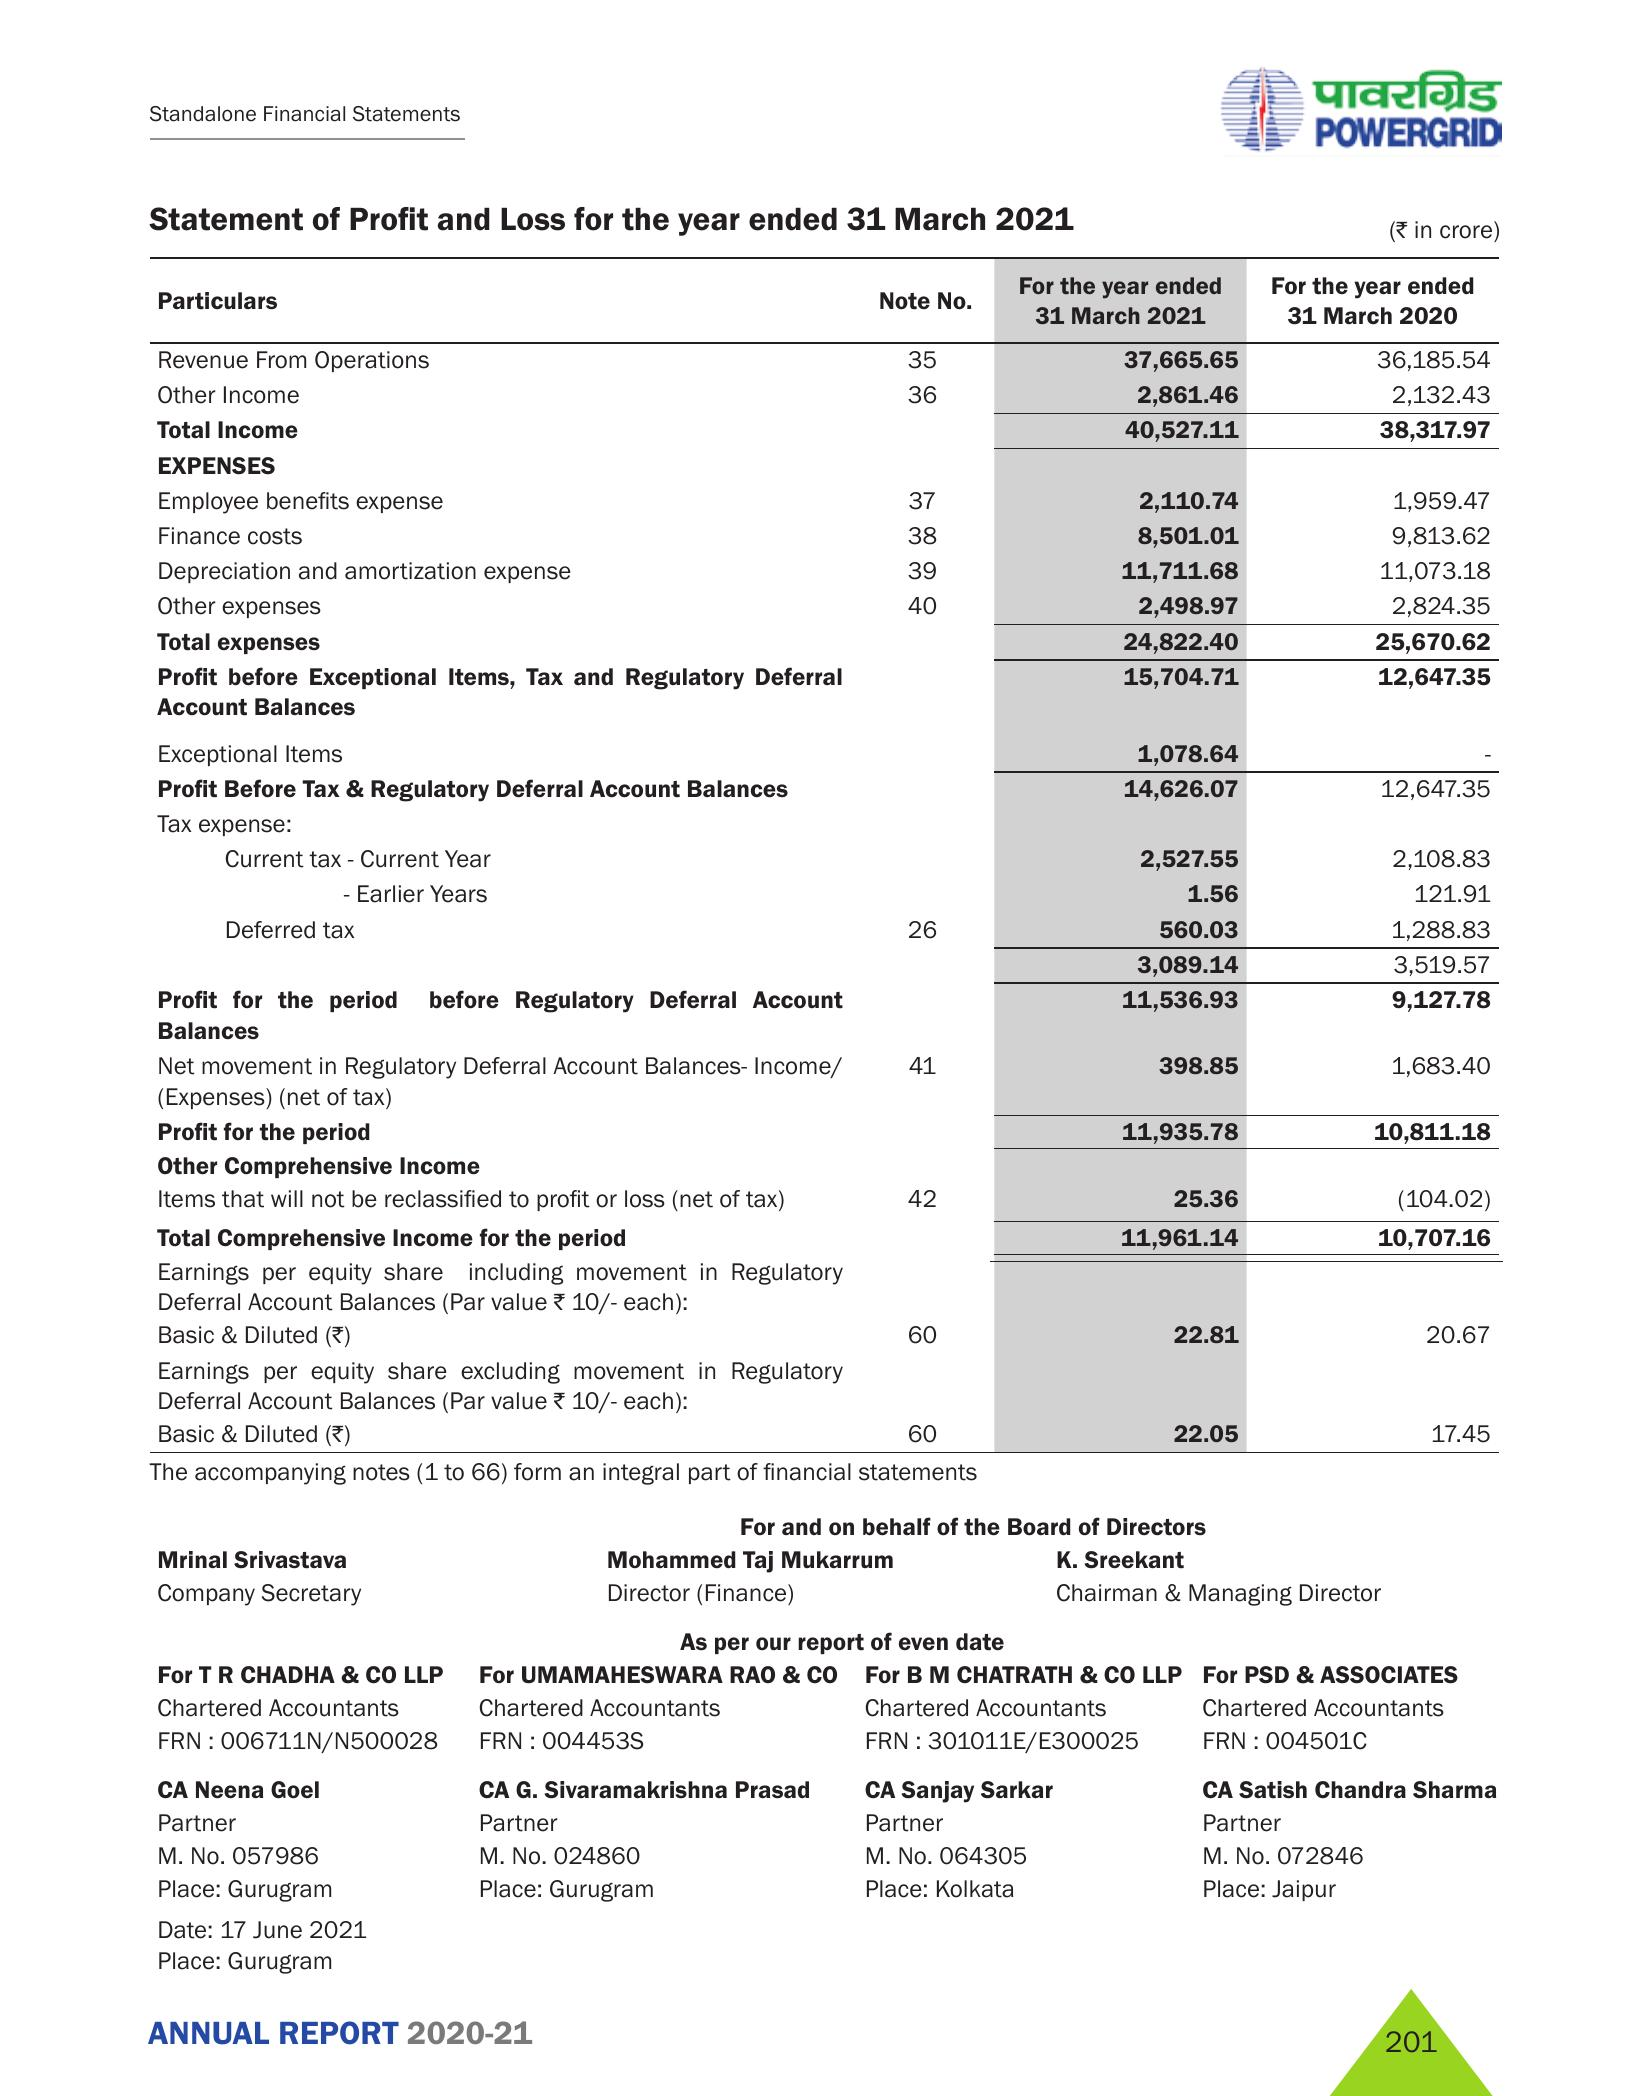Footer: (0, 1974, 1650, 2096)
Header: (0, 0, 1650, 158)
Table: (126, 253, 1533, 1495)
